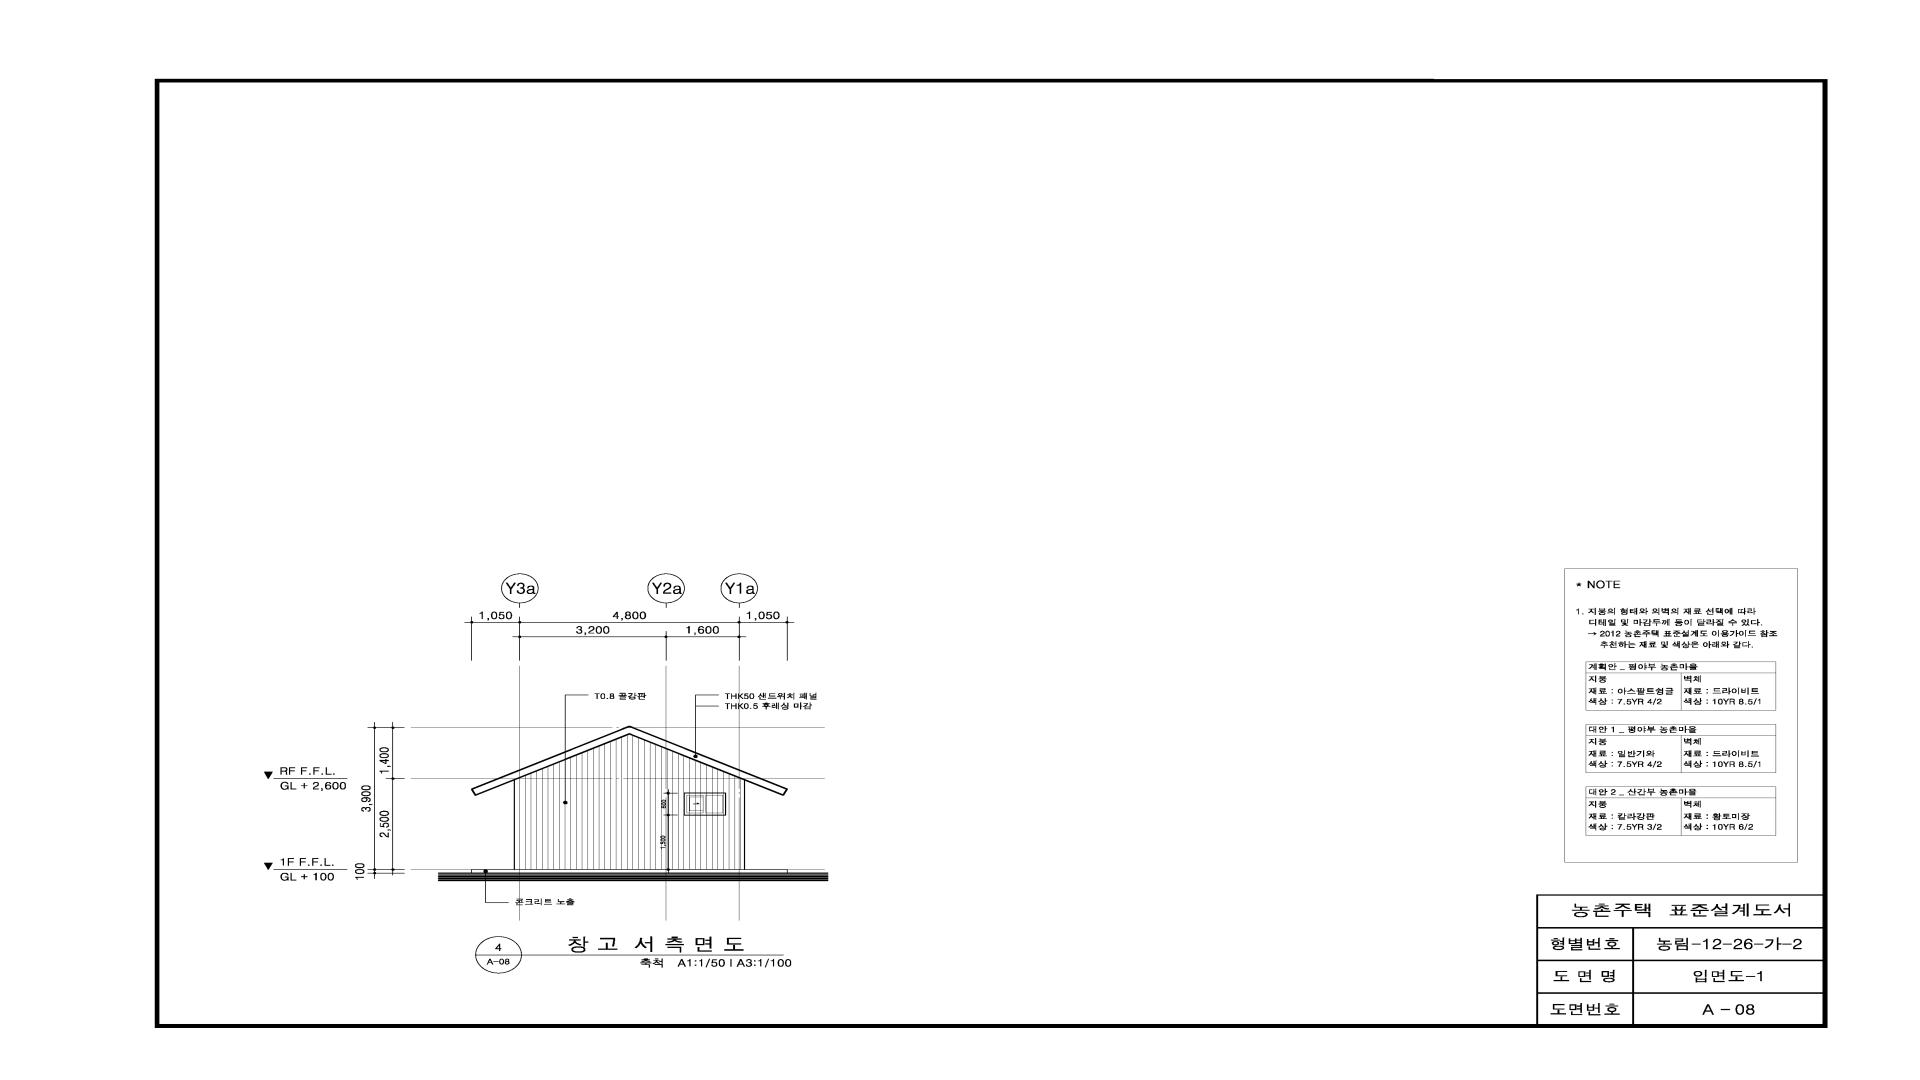wall: (471, 725, 789, 873)
window: (683, 793, 727, 816)
